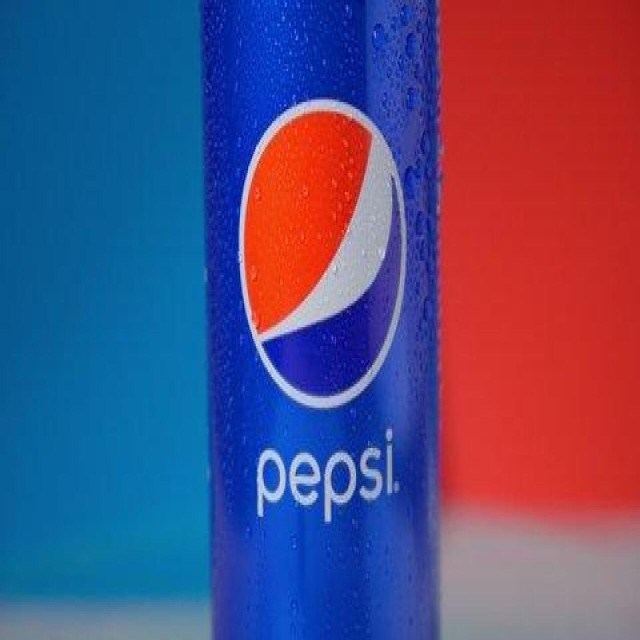pepsi: (237, 92, 411, 415)
